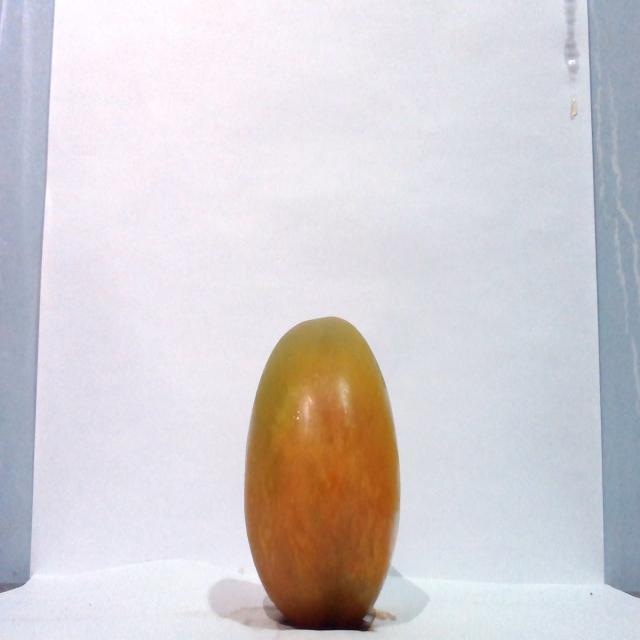Red: (242, 314, 401, 629)
